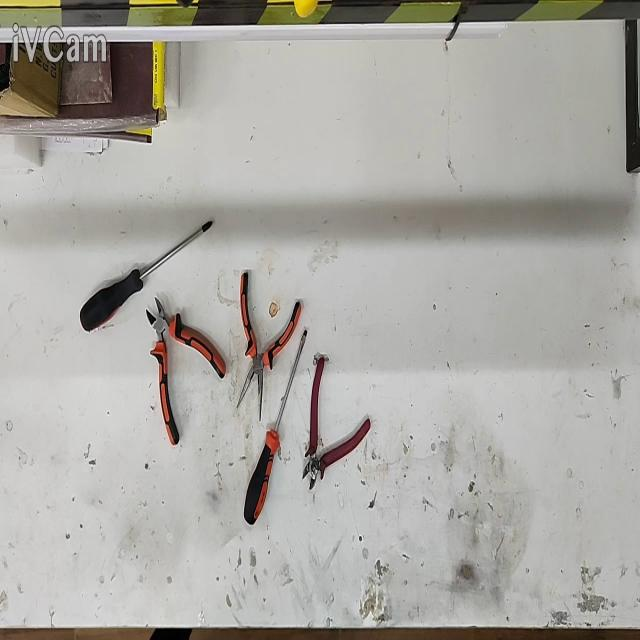Screwdriver: (79, 221, 212, 331), (244, 329, 308, 524)
